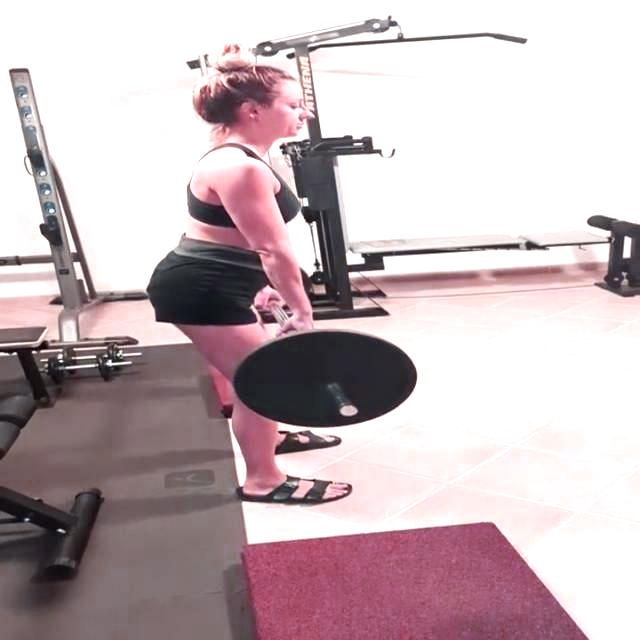barbell: (230, 325, 420, 430)
